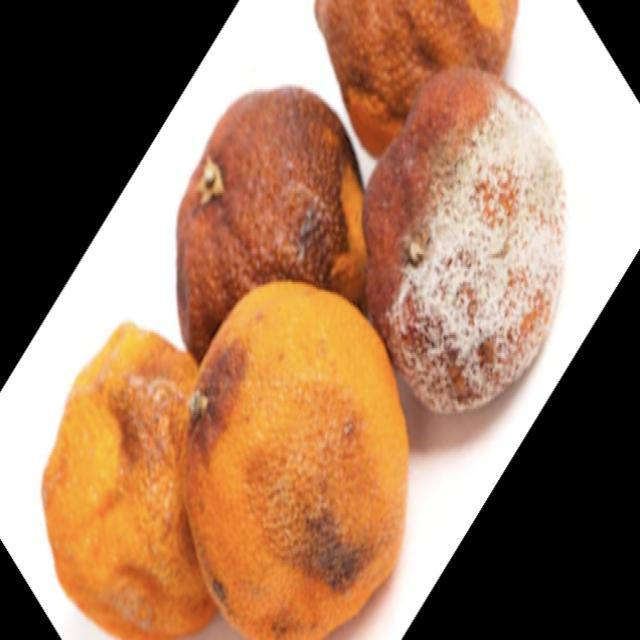sangat-busuk: (365, 69, 564, 413), (178, 87, 363, 360), (316, 0, 517, 158)
sedikit-busuk: (183, 282, 408, 639), (43, 324, 213, 639)
